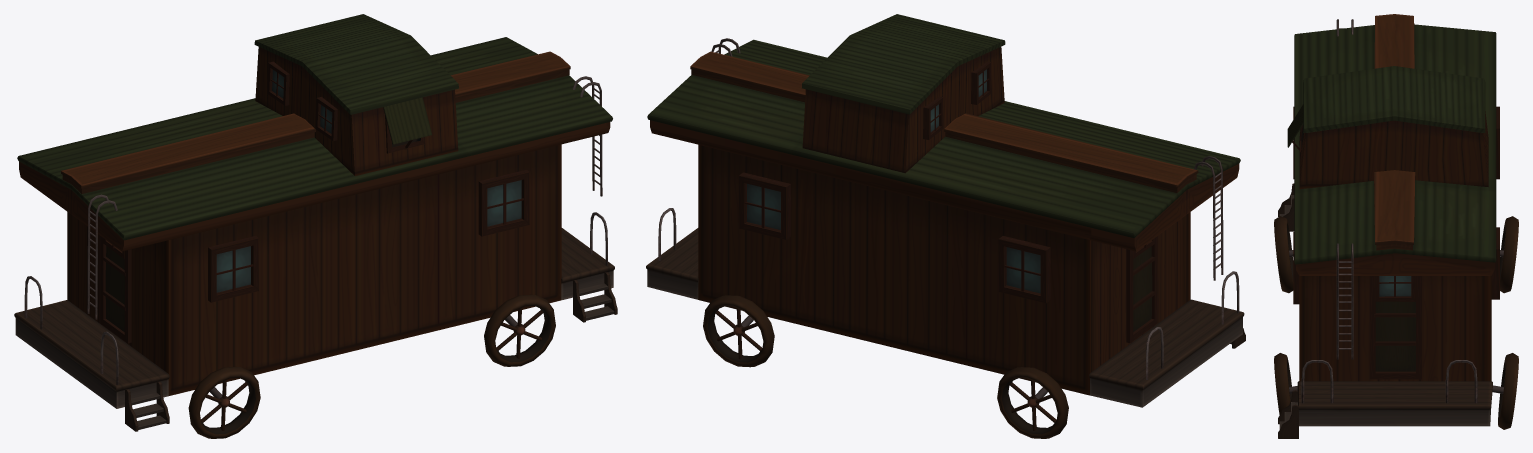
The model's file is Caboose.fbx.
The picture shows the model from 3 angles, left to right: view 1: azimuth 30°, elevation 25°; view 2: azimuth 150°, elevation 25°; view 3: azimuth 270°, elevation 25°; orthographic projection. The views are drawn at different scales.
Parts seen in each view (by area): view 1: CabooseBody, Roof1, TopRoom, Roof2, platform, RoofPlank1, Wheel08 (×2), WindowFrame2 (×2), RoofPlank2, pPlane1 (×2), platform1, TopWindow (+2 smaller); view 2: CabooseBody, TopRoom, Roof1, Roof2, platform, RoofPlank1, WheelGrp1 (×2), WindowFrame2 (×3), RoofPlank2, platform1, pPlane1 (×2), DoorFrame (+1 smaller); view 3: TopRoom, CabooseBody, Roof2, Roof1, platform1, RoofPlank2, DoorPlane3, WheelGrp1 (×2), RoofPlank1, Wheel08 (×2), DoorFrame1, WindowFrame2 (×3) (+8 smaller).
Boxes of the visible parts, x1,y1,x2,y2 form: CabooseBody: (19,122,610,395); Roof1: (17,98,460,240); TopRoom: (254,14,458,175); Roof2: (431,37,612,158); platform: (14,300,169,408); RoofPlank1: (61,113,315,193); Wheel08 (×2): (188,294,555,438); WindowFrame2 (×2): (208,170,529,302); RoofPlank2: (451,51,570,102); pPlane1 (×2): (216,180,521,292); platform1: (561,228,614,300); TopWindow: (383,97,432,144); CabooseBody: (650,120,1239,395); TopRoom: (802,14,1005,173); Roof1: (798,101,1240,238); Roof2: (647,39,826,156); platform: (1089,299,1244,407); RoofPlank1: (944,113,1198,192); WheelGrp1 (×2): (703,295,1068,438); WindowFrame2 (×3): (739,61,1050,303); RoofPlank2: (690,51,809,102); platform1: (646,228,698,299); pPlane1 (×2): (747,183,1040,293); DoorFrame: (1126,236,1157,343); TopRoom: (1299,66,1488,189); CabooseBody: (1296,253,1494,381); Roof2: (1294,180,1496,264); Roof1: (1294,24,1496,190); platform1: (1297,381,1492,426); RoofPlank2: (1374,170,1415,250); DoorPlane3: (1375,301,1415,371); WheelGrp1 (×2): (1289,216,1518,429); RoofPlank1: (1374,14,1414,68); Wheel08 (×2): (1274,216,1293,414); DoorFrame1: (1369,276,1421,379); WindowFrame2 (×3): (1293,106,1499,304).
Bounding box in the file's own units: 43.12 × 24.61 × 19.02.
